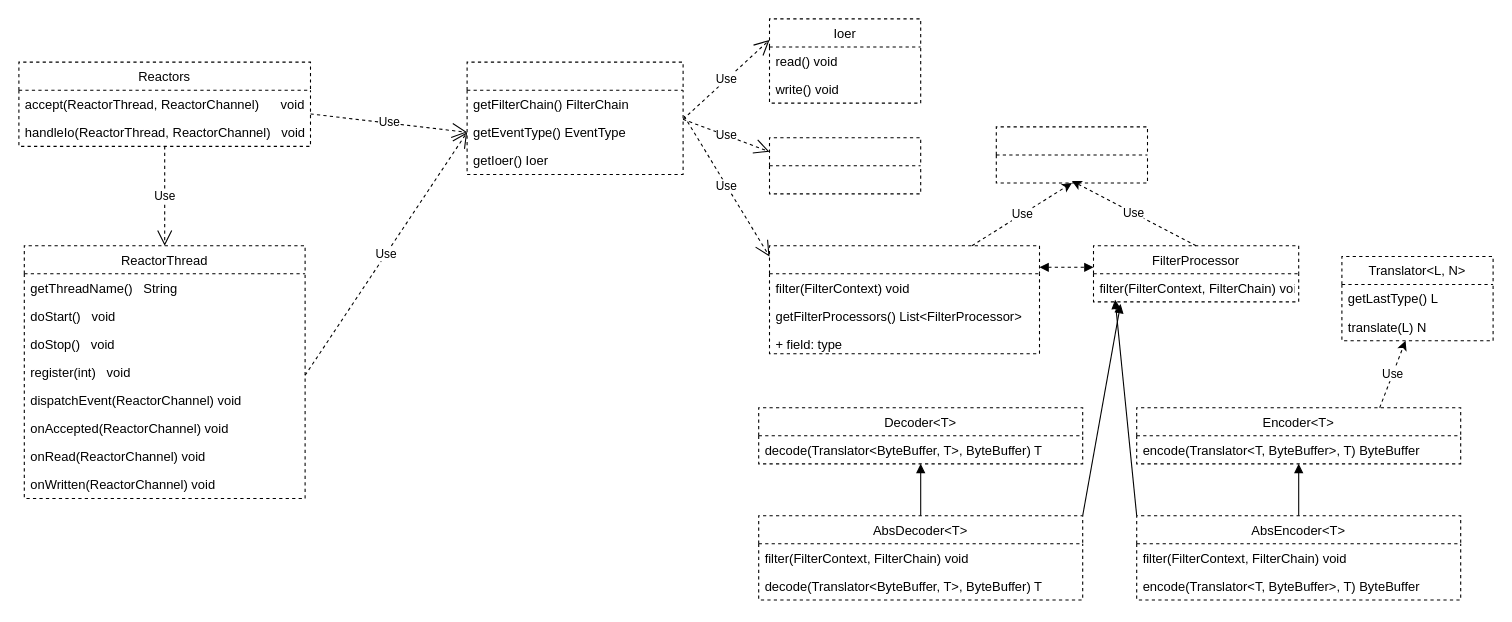
Image size: 1512x622. Some labels were removed from this diagram. Here are the shapes that lost their labels. From the top down, the box of each, then its label:
(466, 61, 683, 174): ReactorChannel
(768, 137, 921, 194): EventType
(995, 126, 1148, 183): FilterContext
(768, 245, 1040, 354): FilterChain
